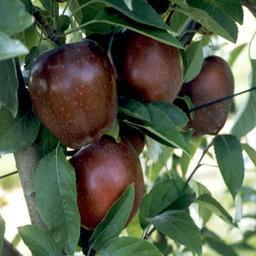apple: (27, 39, 116, 150), (67, 137, 144, 232), (173, 55, 235, 137), (115, 32, 185, 102)
